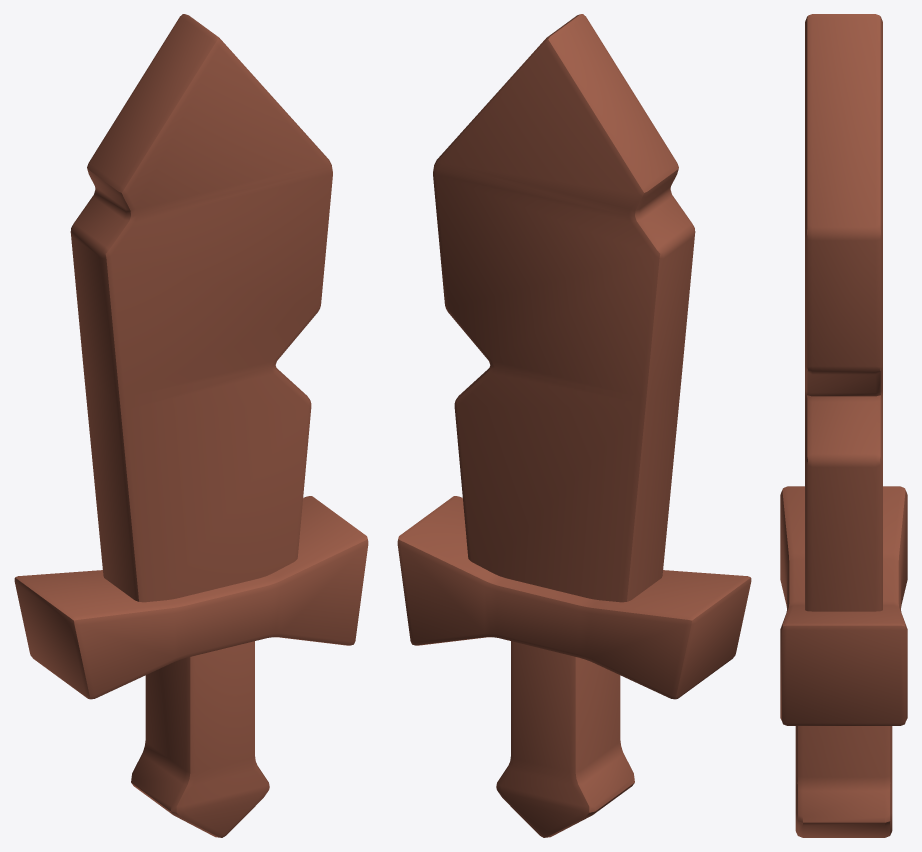
File: training_sword.gltf.glb
3 renders of one model, left to right at view 1: azimuth 30°, elevation 25°; view 2: azimuth 150°, elevation 25°; view 3: azimuth 270°, elevation 25°, orthographic. The views are drawn at different scales.
Parts seen in each view (by area): view 1: training_sword; view 2: training_sword; view 3: training_sword.
Boxes of the visible parts, x1=… form: training_sword: x1=14, y1=14, x2=368, y2=837; training_sword: x1=397, y1=14, x2=751, y2=837; training_sword: x1=780, y1=14, x2=907, y2=837.
Size of the model in its own units: 0.3896 by 0.9964 by 0.1399.
